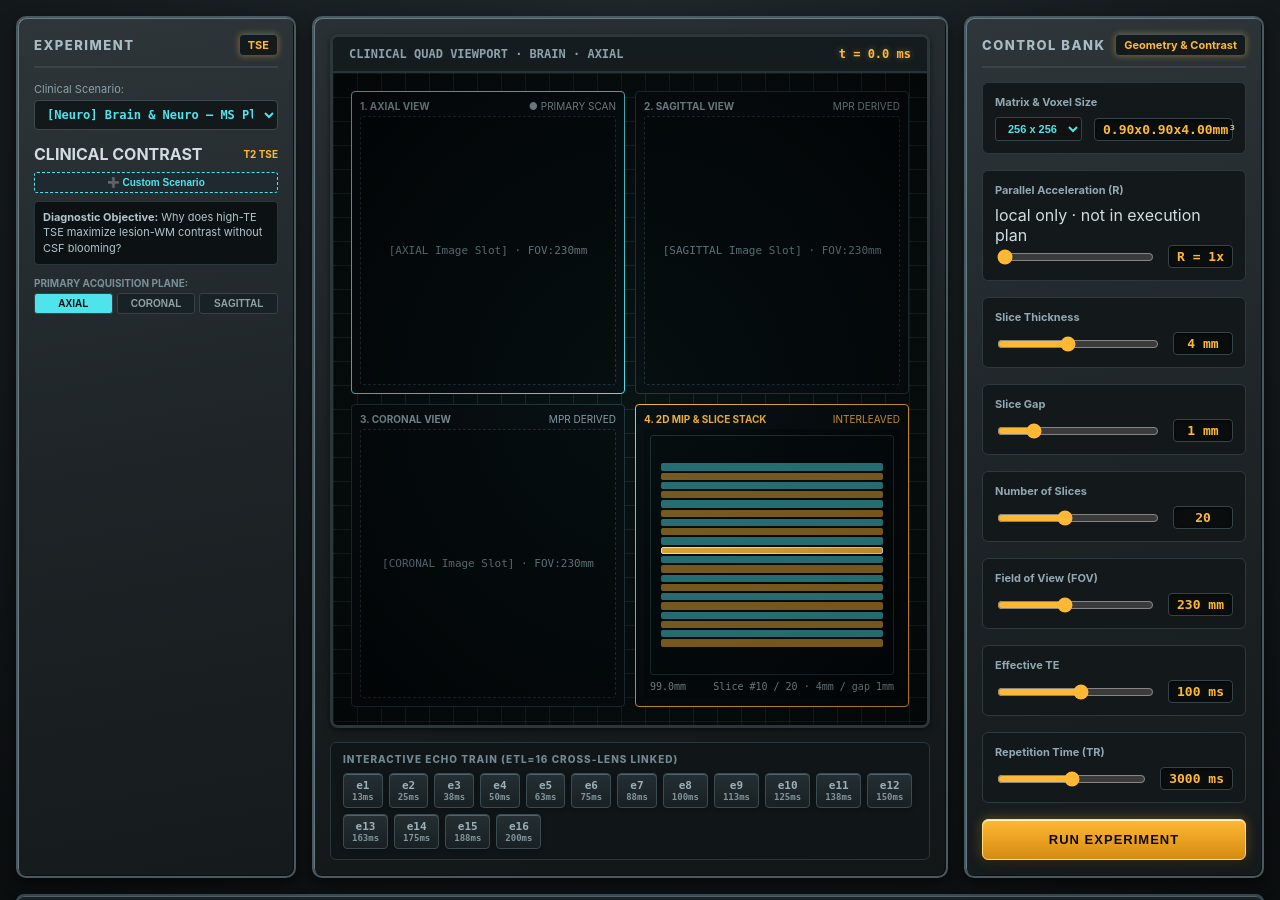
Test: Web Vertical Slice: Taxonomy, Dual Persona, Single Large Display & Retromorphism › supports Cross-Lens Cursor linking when clicking echo chips
What coordinates should you click on to do the following:
click the button with test id "echo-chip-6"
I would click on:
 (591, 790)
Its box is [571,773,611,808].
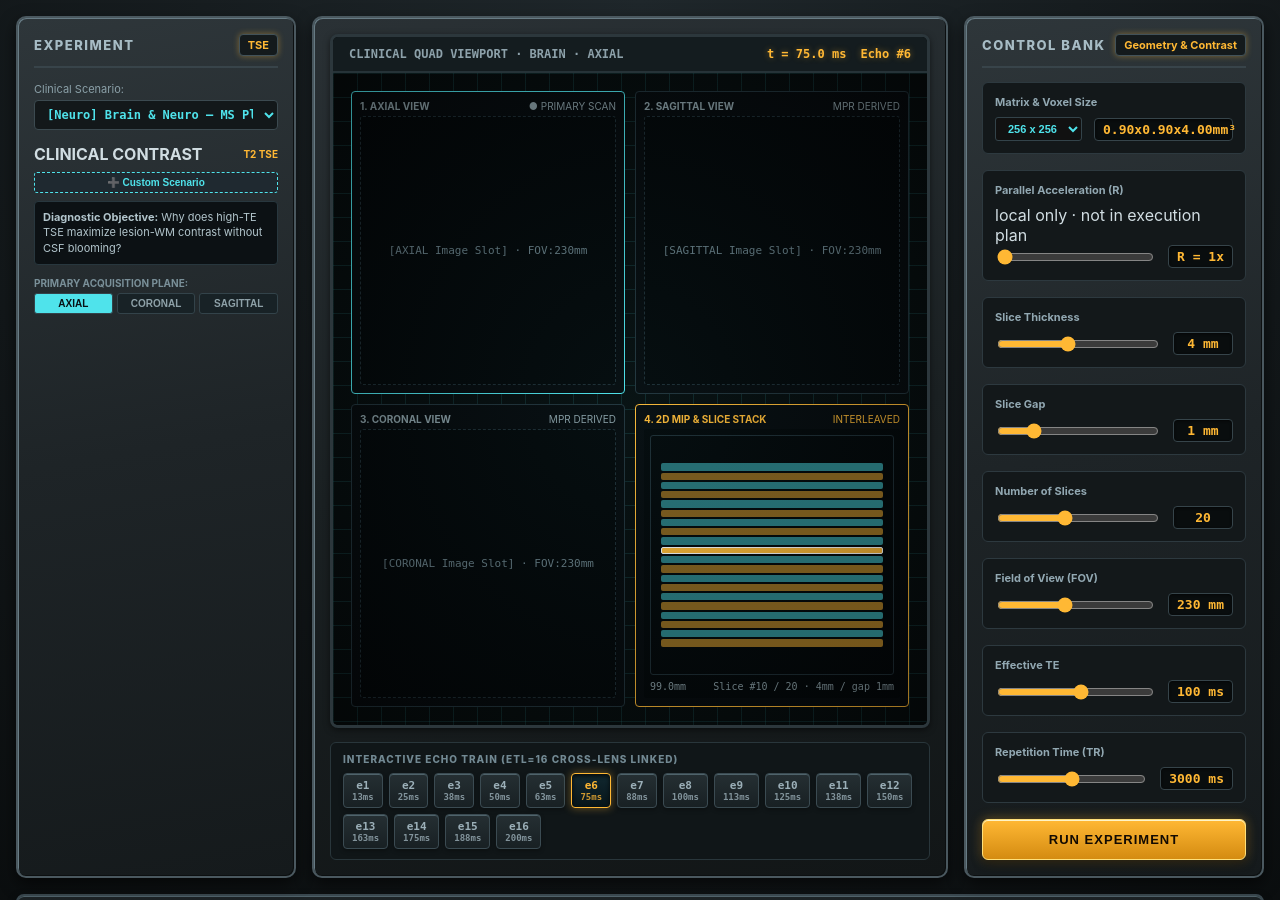
Result: the text with test id "echo-readout" reads "Echo #6" at [860,47,911,61]
Result: the text with test id "time-readout" reads "t = 75.0 ms" at [767,47,846,61]
